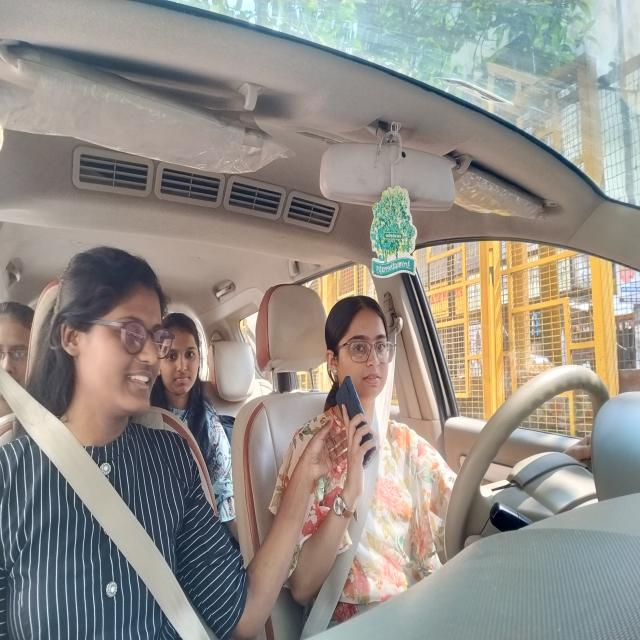mobile: (333, 374, 376, 471)
person: (54, 243, 170, 429), (321, 288, 395, 413), (1, 295, 38, 410), (158, 307, 202, 398)
